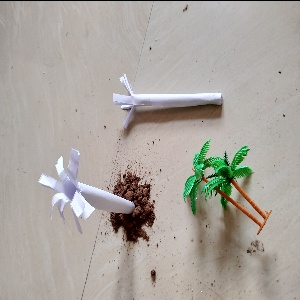plant: (174, 133, 278, 239)
weed: (33, 145, 140, 234), (107, 70, 232, 129)
